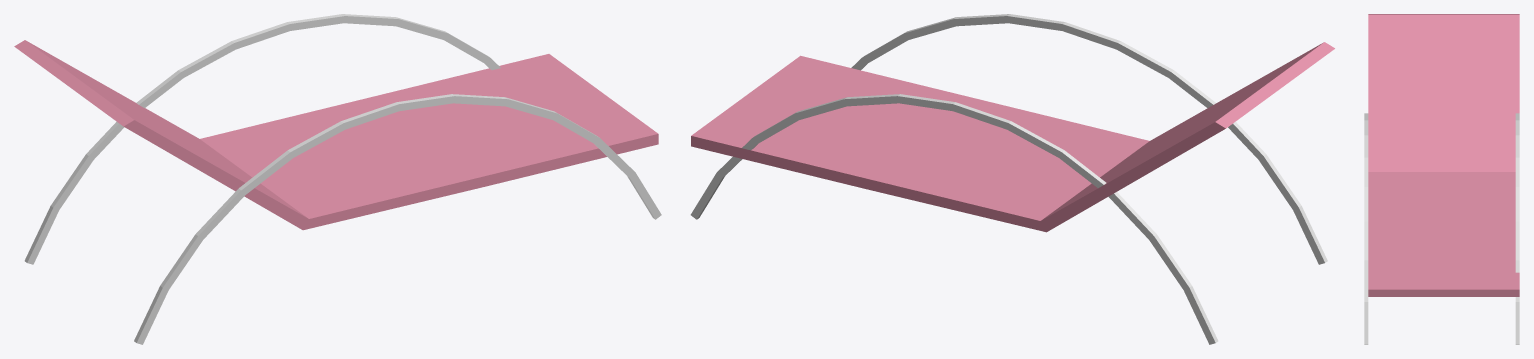
The model's file is OU_C_Sunbed_01_D.fbx.
The picture shows the model from 3 angles, left to right: view 1: azimuth 30°, elevation 25°; view 2: azimuth 150°, elevation 25°; view 3: azimuth 270°, elevation 25°; orthographic projection. The views are drawn at different scales.
Parts seen in each view (by area): view 1: OU_C_Sunbed_01_D; view 2: OU_C_Sunbed_01_D; view 3: OU_C_Sunbed_01_D.
Part boxes in pixels (left/top/right/bottom): OU_C_Sunbed_01_D: left=14, top=14, right=661, bottom=344; OU_C_Sunbed_01_D: left=690, top=14, right=1334, bottom=344; OU_C_Sunbed_01_D: left=1364, top=14, right=1519, bottom=344.
Bounding box in the file's own units: 396 × 158 × 144.
